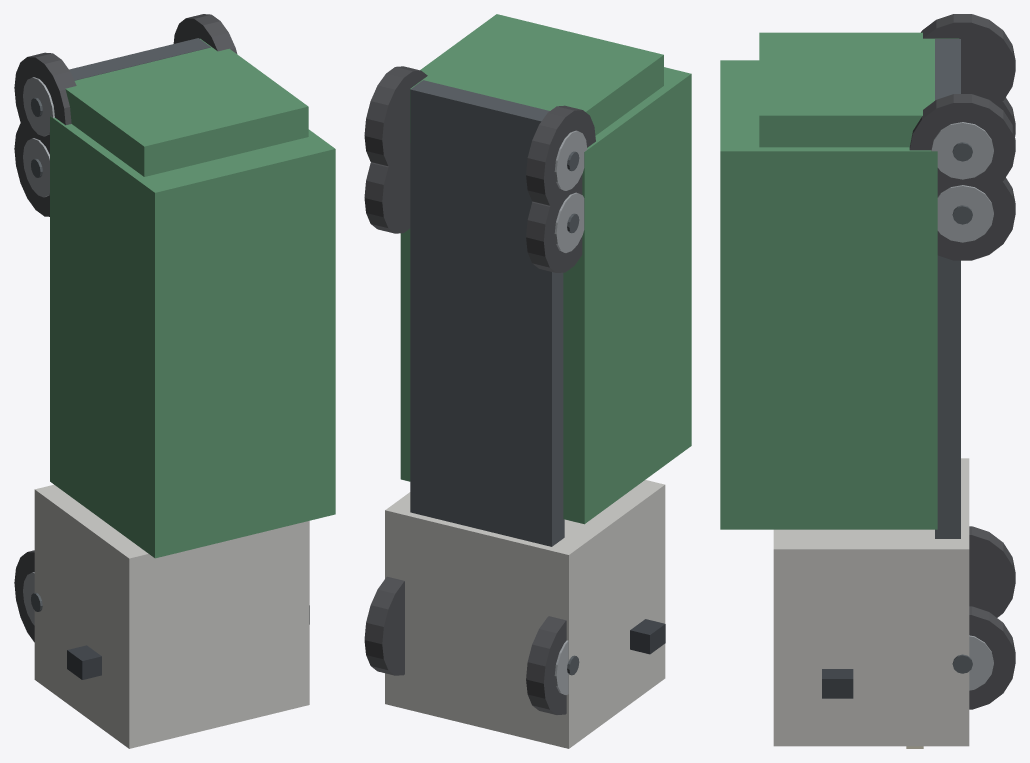
Rendered from garbage_truck.glb.
3 renders of one model, left to right at view 1: azimuth 30°, elevation 25°; view 2: azimuth 150°, elevation 25°; view 3: azimuth 270°, elevation 25°, orthographic. The views are drawn at different scales.
Visible parts, largest first — view 1: 0008_Waste_compactor, 0001_Cab_body, 0009_Rear_hopper, 0022_Wheel_tire, 0000_Truck_chassis, 0025_Wheel_tire, 0016_Wheel_tire, 0023_Wheel_rim, 0017_Wheel_rim, 0006_Side_mirror, 0010_Wheel_tire; view 2: 0000_Truck_chassis, 0001_Cab_body, 0008_Waste_compactor, 0009_Rear_hopper, 0025_Wheel_tire, 0022_Wheel_tire, 0013_Wheel_tire, 0019_Wheel_tire, 0010_Wheel_tire, 0016_Wheel_tire, 0023_Wheel_rim, 0017_Wheel_rim (+2 smaller); view 3: 0008_Waste_compactor, 0001_Cab_body, 0009_Rear_hopper, 0000_Truck_chassis, 0025_Wheel_tire, 0022_Wheel_tire, 0019_Wheel_tire, 0010_Wheel_tire, 0013_Wheel_tire, 0026_Wheel_rim, 0020_Wheel_rim, 0014_Wheel_rim (+2 smaller).
Boxes of the visible parts, <box> form: 0008_Waste_compactor: <box>50,116,335,558</box>; 0001_Cab_body: <box>34,484,309,748</box>; 0009_Rear_hopper: <box>65,38,308,176</box>; 0022_Wheel_tire: <box>14,52,76,149</box>; 0000_Truck_chassis: <box>69,38,210,80</box>; 0025_Wheel_tire: <box>173,14,237,53</box>; 0016_Wheel_tire: <box>14,118,49,216</box>; 0023_Wheel_rim: <box>23,77,54,136</box>; 0017_Wheel_rim: <box>23,138,49,197</box>; 0006_Side_mirror: <box>67,645,101,679</box>; 0010_Wheel_tire: <box>14,550,34,642</box>; 0000_Truck_chassis: <box>410,80,564,546</box>; 0001_Cab_body: <box>385,480,665,748</box>; 0008_Waste_compactor: <box>400,67,691,524</box>; 0009_Rear_hopper: <box>410,14,663,142</box>; 0025_Wheel_tire: <box>364,66,427,168</box>; 0022_Wheel_tire: <box>526,105,595,205</box>; 0013_Wheel_tire: <box>364,576,404,675</box>; 0019_Wheel_tire: <box>364,135,410,233</box>; 0010_Wheel_tire: <box>526,616,566,714</box>; 0016_Wheel_tire: <box>526,174,582,272</box>; 0023_Wheel_rim: <box>554,130,587,190</box>; 0017_Wheel_rim: <box>554,192,584,252</box>; 0008_Waste_compactor: <box>720,60,937,529</box>; 0001_Cab_body: <box>773,458,969,746</box>; 0009_Rear_hopper: <box>759,32,958,147</box>; 0000_Truck_chassis: <box>935,39,960,538</box>; 0025_Wheel_tire: <box>909,94,1015,192</box>; 0022_Wheel_tire: <box>921,14,1015,104</box>; 0019_Wheel_tire: <box>937,170,1015,260</box>; 0010_Wheel_tire: <box>969,526,1015,617</box>; 0013_Wheel_tire: <box>969,606,1015,709</box>; 0026_Wheel_rim: <box>931,122,993,179</box>; 0020_Wheel_rim: <box>937,185,993,242</box>; 0014_Wheel_rim: <box>969,635,993,690</box>.
Size of the model in its own units: 3.13 by 8.23 by 3.4.
